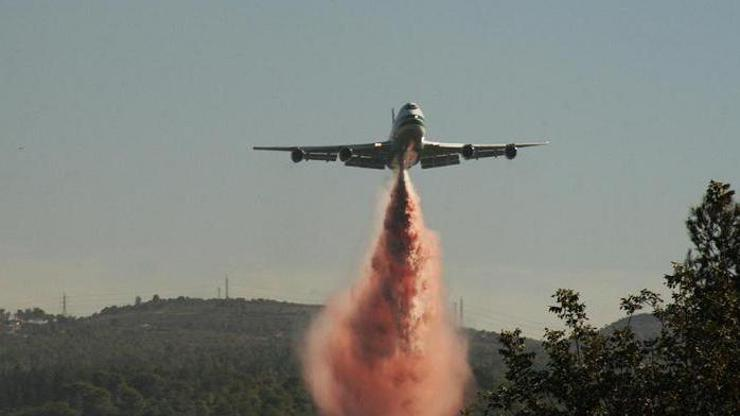plane: (251, 101, 550, 170)
